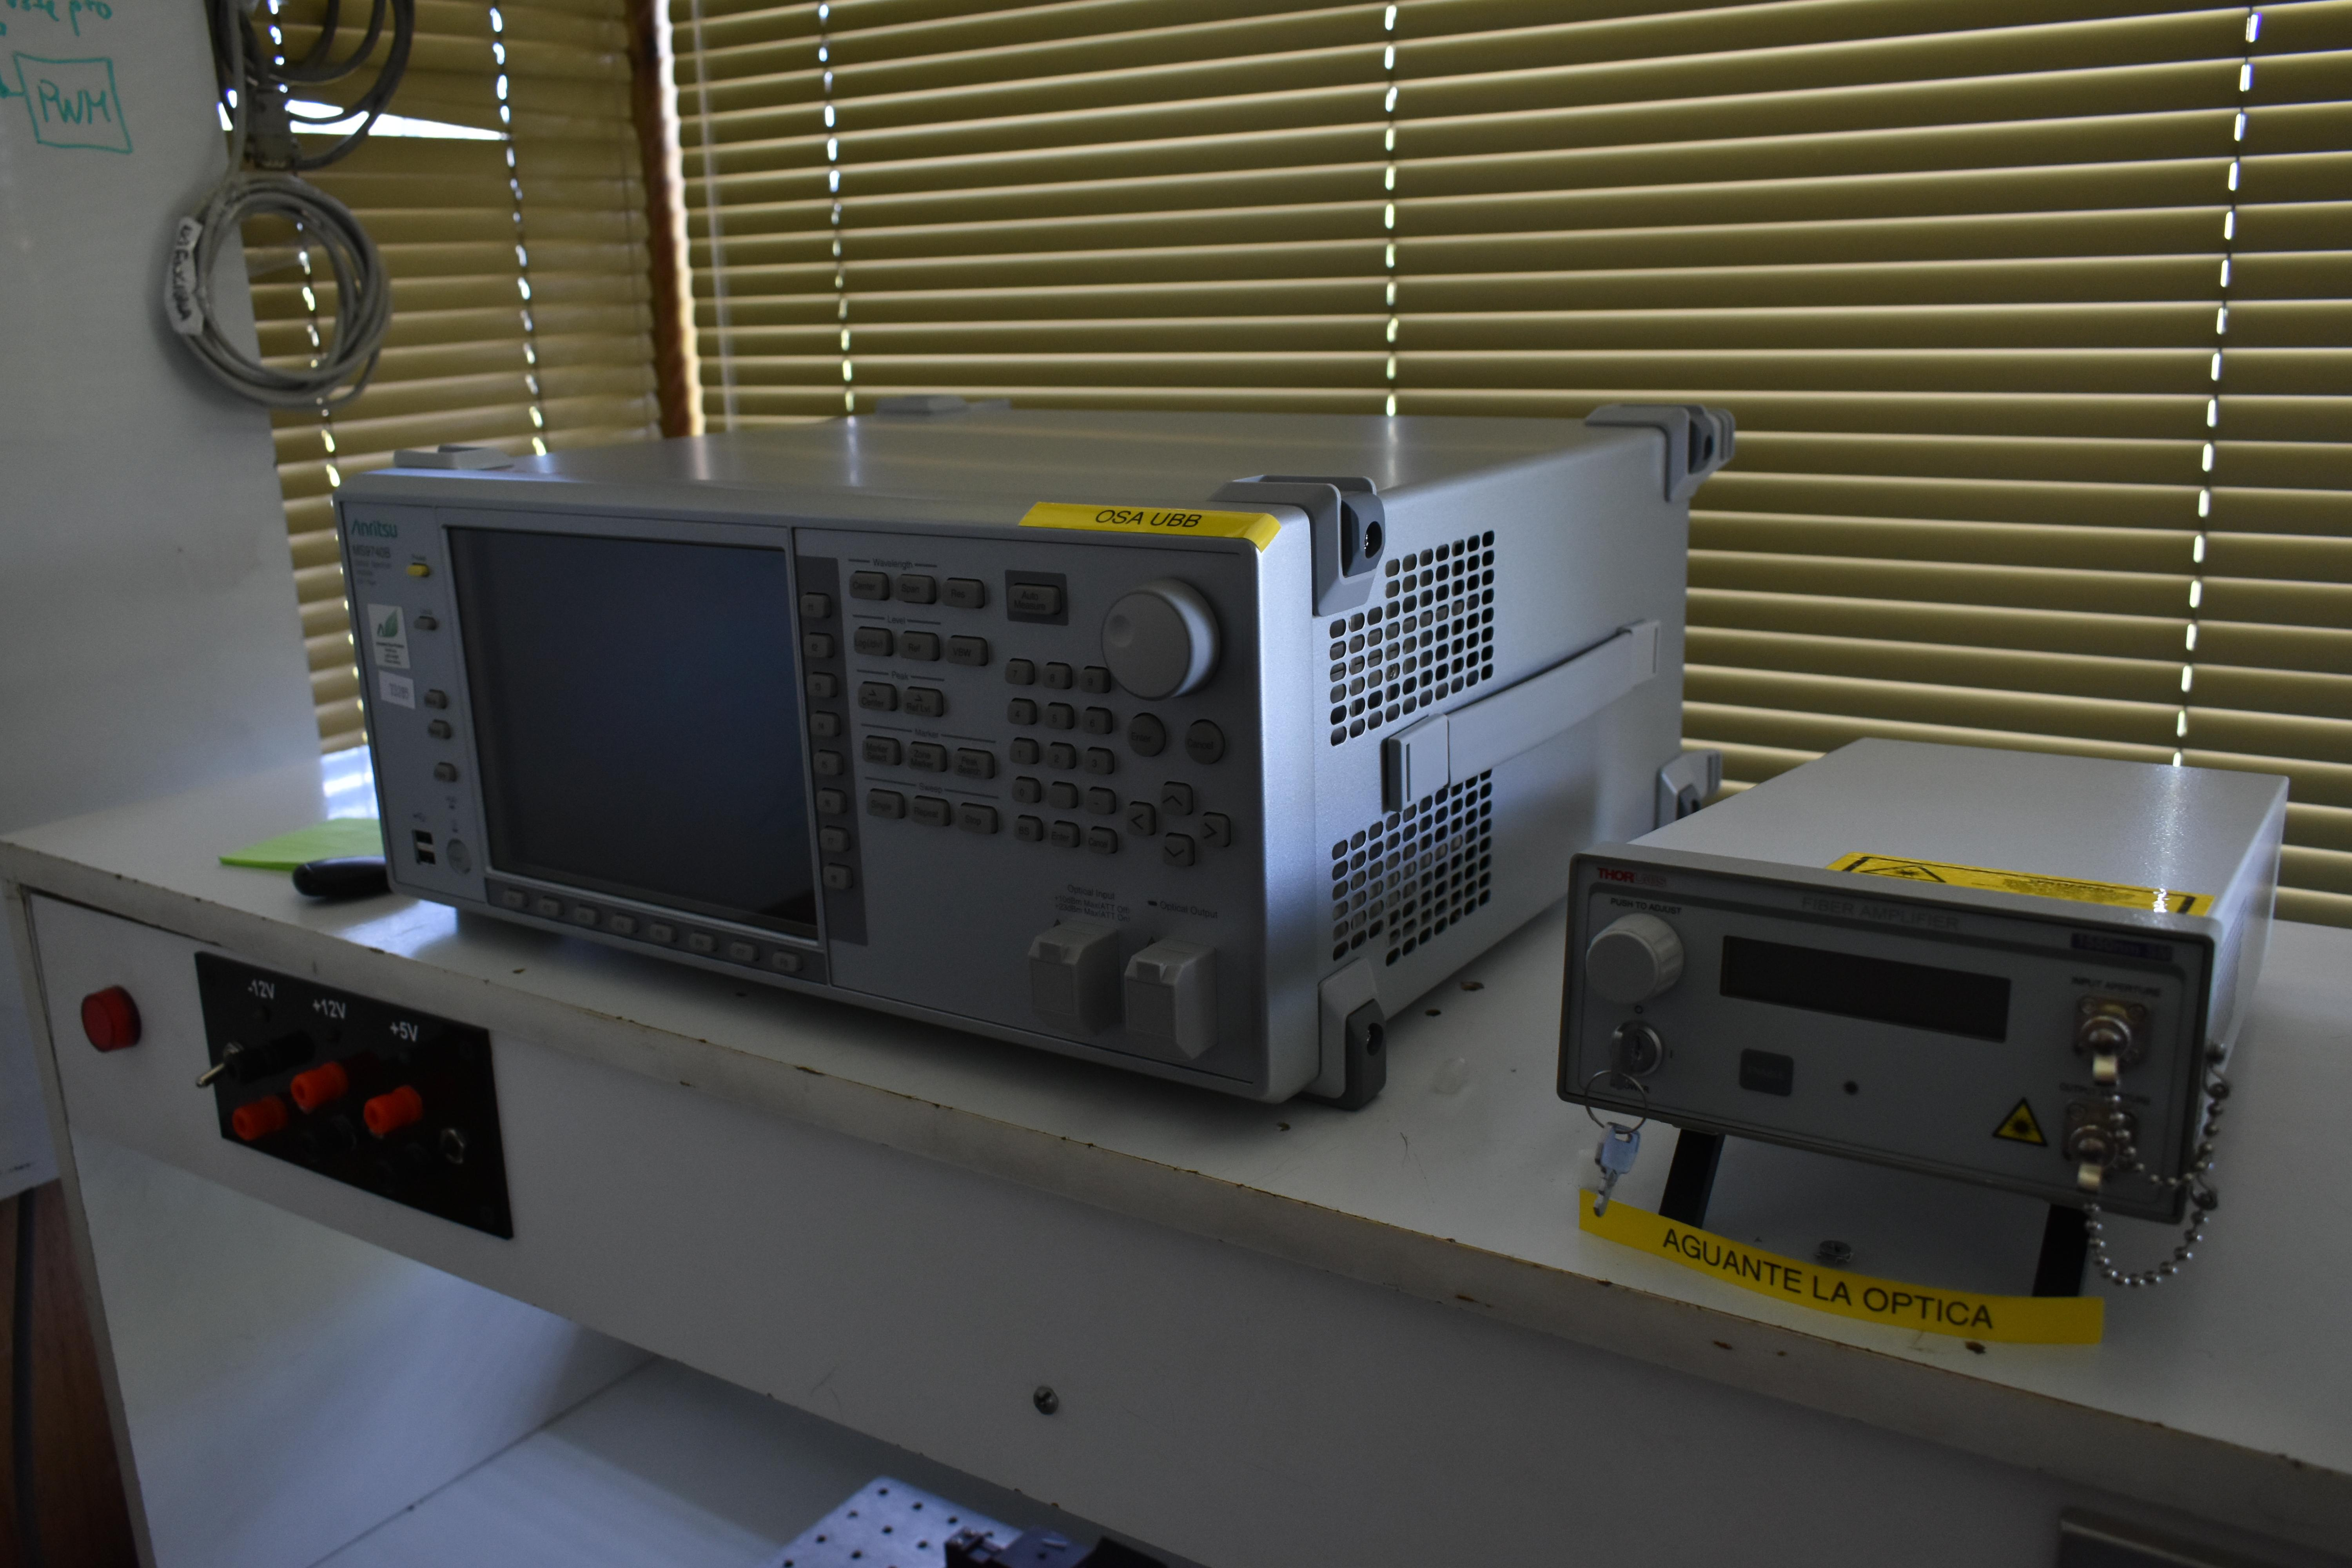laser: (1556, 713, 2309, 1366)
